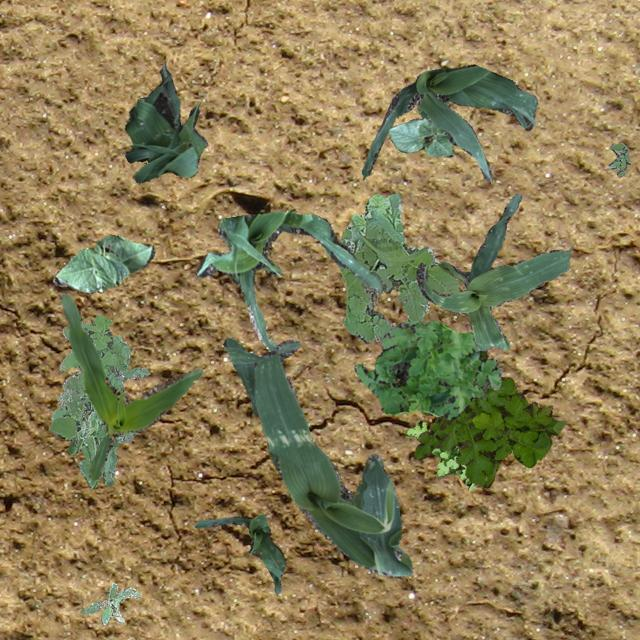crop: (222, 337, 412, 576), (196, 208, 386, 350), (58, 292, 202, 479), (416, 192, 570, 350), (360, 64, 536, 182), (124, 62, 206, 182), (193, 514, 284, 594), (53, 234, 154, 292), (386, 116, 454, 156)
weed: (412, 348, 564, 486), (338, 192, 458, 342), (50, 312, 148, 486), (352, 320, 500, 420), (48, 374, 112, 486), (404, 420, 474, 490), (80, 582, 140, 624), (608, 142, 630, 176)
